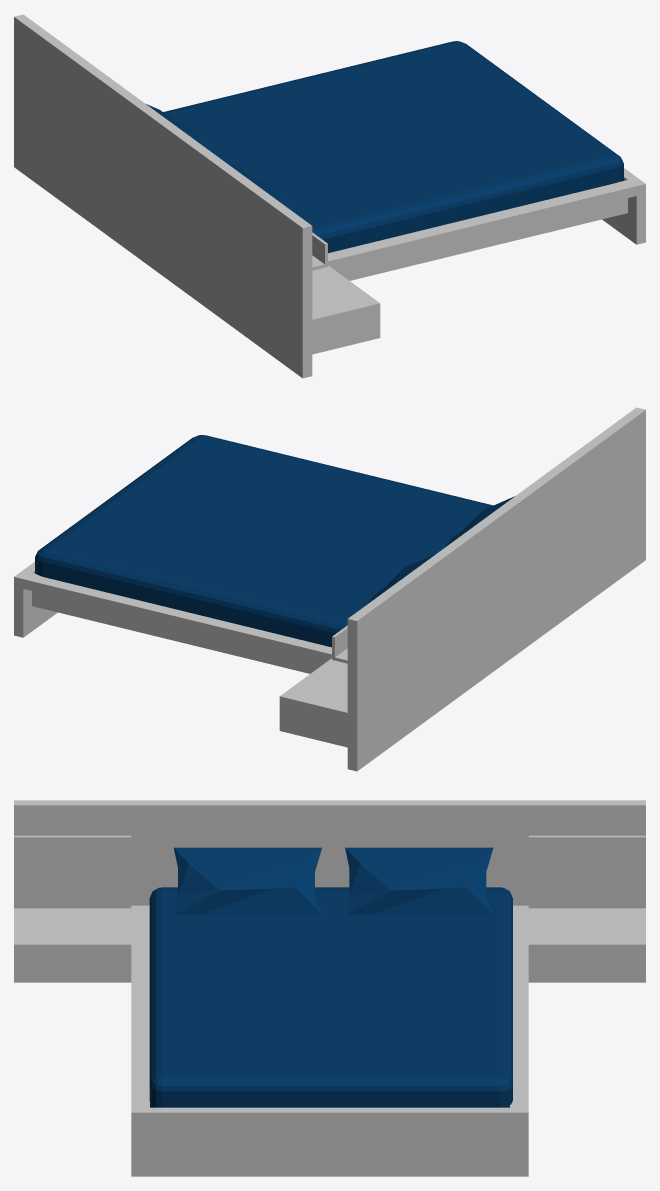
3 renders of one model, top to bottom at view 1: azimuth 30°, elevation 25°; view 2: azimuth 150°, elevation 25°; view 3: azimuth 270°, elevation 25°, orthographic. The views are drawn at different scales.
Parts seen in each view (by area): view 1: mesh14.001_mesh14-geometry, mesh11.001_mesh11-geometry, mesh1.002_mesh1-geometry, mesh1.001_mesh1-geometry, mesh5.002_mesh5-geometry; view 2: mesh14.001_mesh14-geometry, mesh11.001_mesh11-geometry, mesh1.001_mesh1-geometry, mesh1.002_mesh1-geometry, mesh5.001_mesh5-geometry; view 3: mesh14.001_mesh14-geometry, mesh11.001_mesh11-geometry, mesh1.002_mesh1-geometry, mesh1.001_mesh1-geometry, mesh12.001_mesh12-geometry, mesh12.002_mesh12-geometry, mesh3.002_mesh3-geometry, mesh3.001_mesh3-geometry, mesh5.002_mesh5-geometry, mesh5.001_mesh5-geometry, mesh9.002_mesh9-geometry, mesh9.001_mesh9-geometry.
Part boxes in pixels (x1,y1,x2,y2): mesh14.001_mesh14-geometry: [163, 41, 623, 253]; mesh11.001_mesh11-geometry: [67, 53, 645, 338]; mesh1.002_mesh1-geometry: [249, 186, 312, 378]; mesh1.001_mesh1-geometry: [14, 14, 76, 205]; mesh5.002_mesh5-geometry: [312, 267, 377, 354]; mesh14.001_mesh14-geometry: [35, 435, 493, 647]; mesh11.001_mesh11-geometry: [14, 446, 592, 731]; mesh1.001_mesh1-geometry: [347, 579, 410, 771]; mesh1.002_mesh1-geometry: [583, 407, 645, 598]; mesh5.001_mesh5-geometry: [282, 660, 347, 747]; mesh14.001_mesh14-geometry: [149, 887, 512, 1107]; mesh11.001_mesh11-geometry: [131, 800, 528, 1176]; mesh1.002_mesh1-geometry: [14, 800, 131, 908]; mesh1.001_mesh1-geometry: [528, 800, 645, 908]; mesh12.001_mesh12-geometry: [345, 847, 493, 914]; mesh12.002_mesh12-geometry: [174, 847, 321, 914]; mesh3.002_mesh3-geometry: [14, 943, 131, 982]; mesh3.001_mesh3-geometry: [528, 943, 645, 982]; mesh5.002_mesh5-geometry: [14, 908, 131, 942]; mesh5.001_mesh5-geometry: [528, 908, 645, 942]; mesh9.002_mesh9-geometry: [14, 835, 131, 862]; mesh9.001_mesh9-geometry: [528, 835, 645, 862].
Size of the model in its own units: 0.6063 by 0.2196 by 0.7644.
